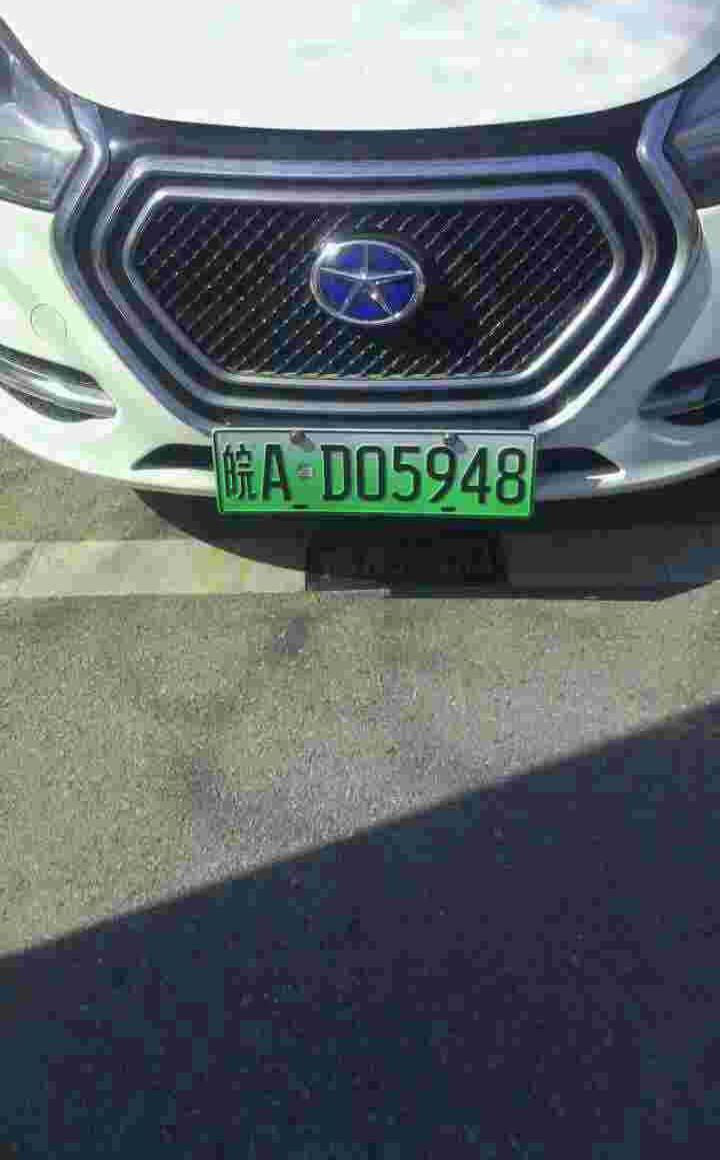car_id: (214, 430, 532, 518)
